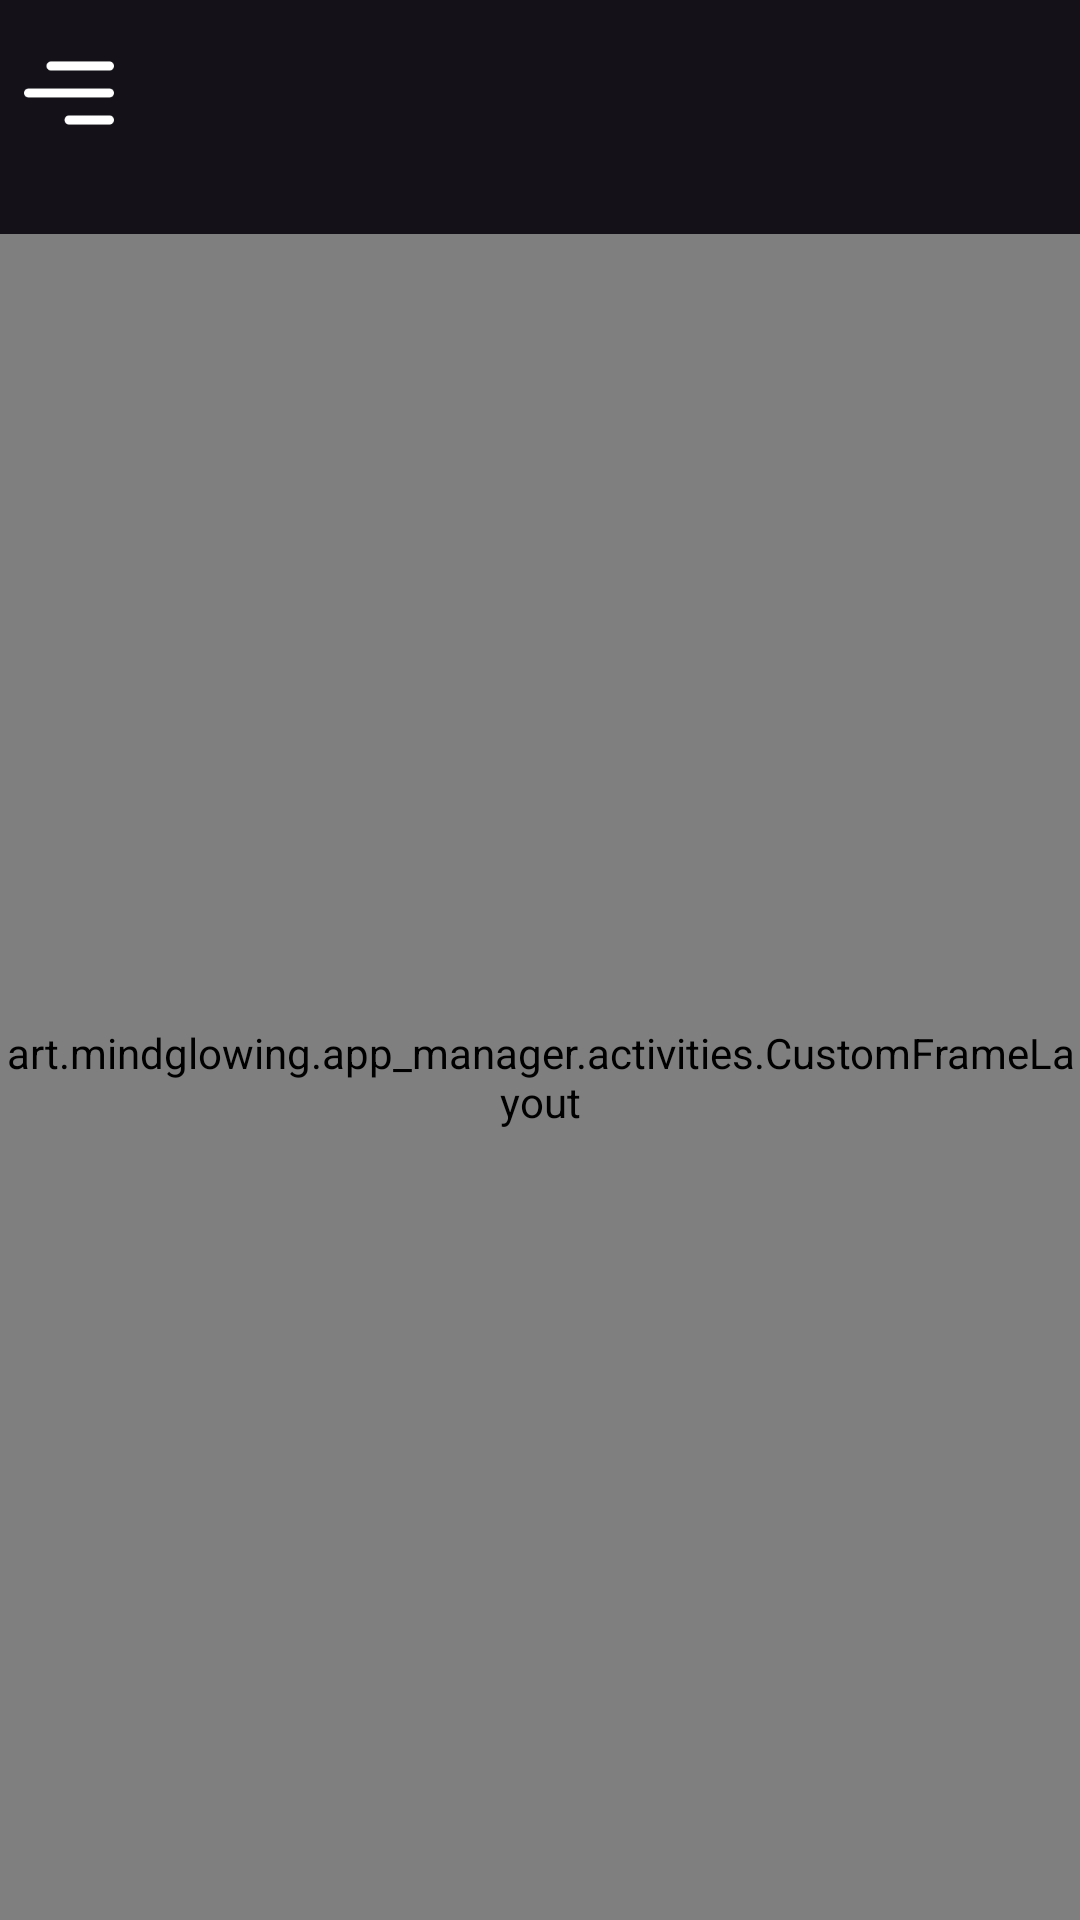

Named icons in this screenshot (1080*1920) and their bounding boxes, region(x1, y1, x2, y2):
Burger Menu: region(24, 61, 114, 125)
